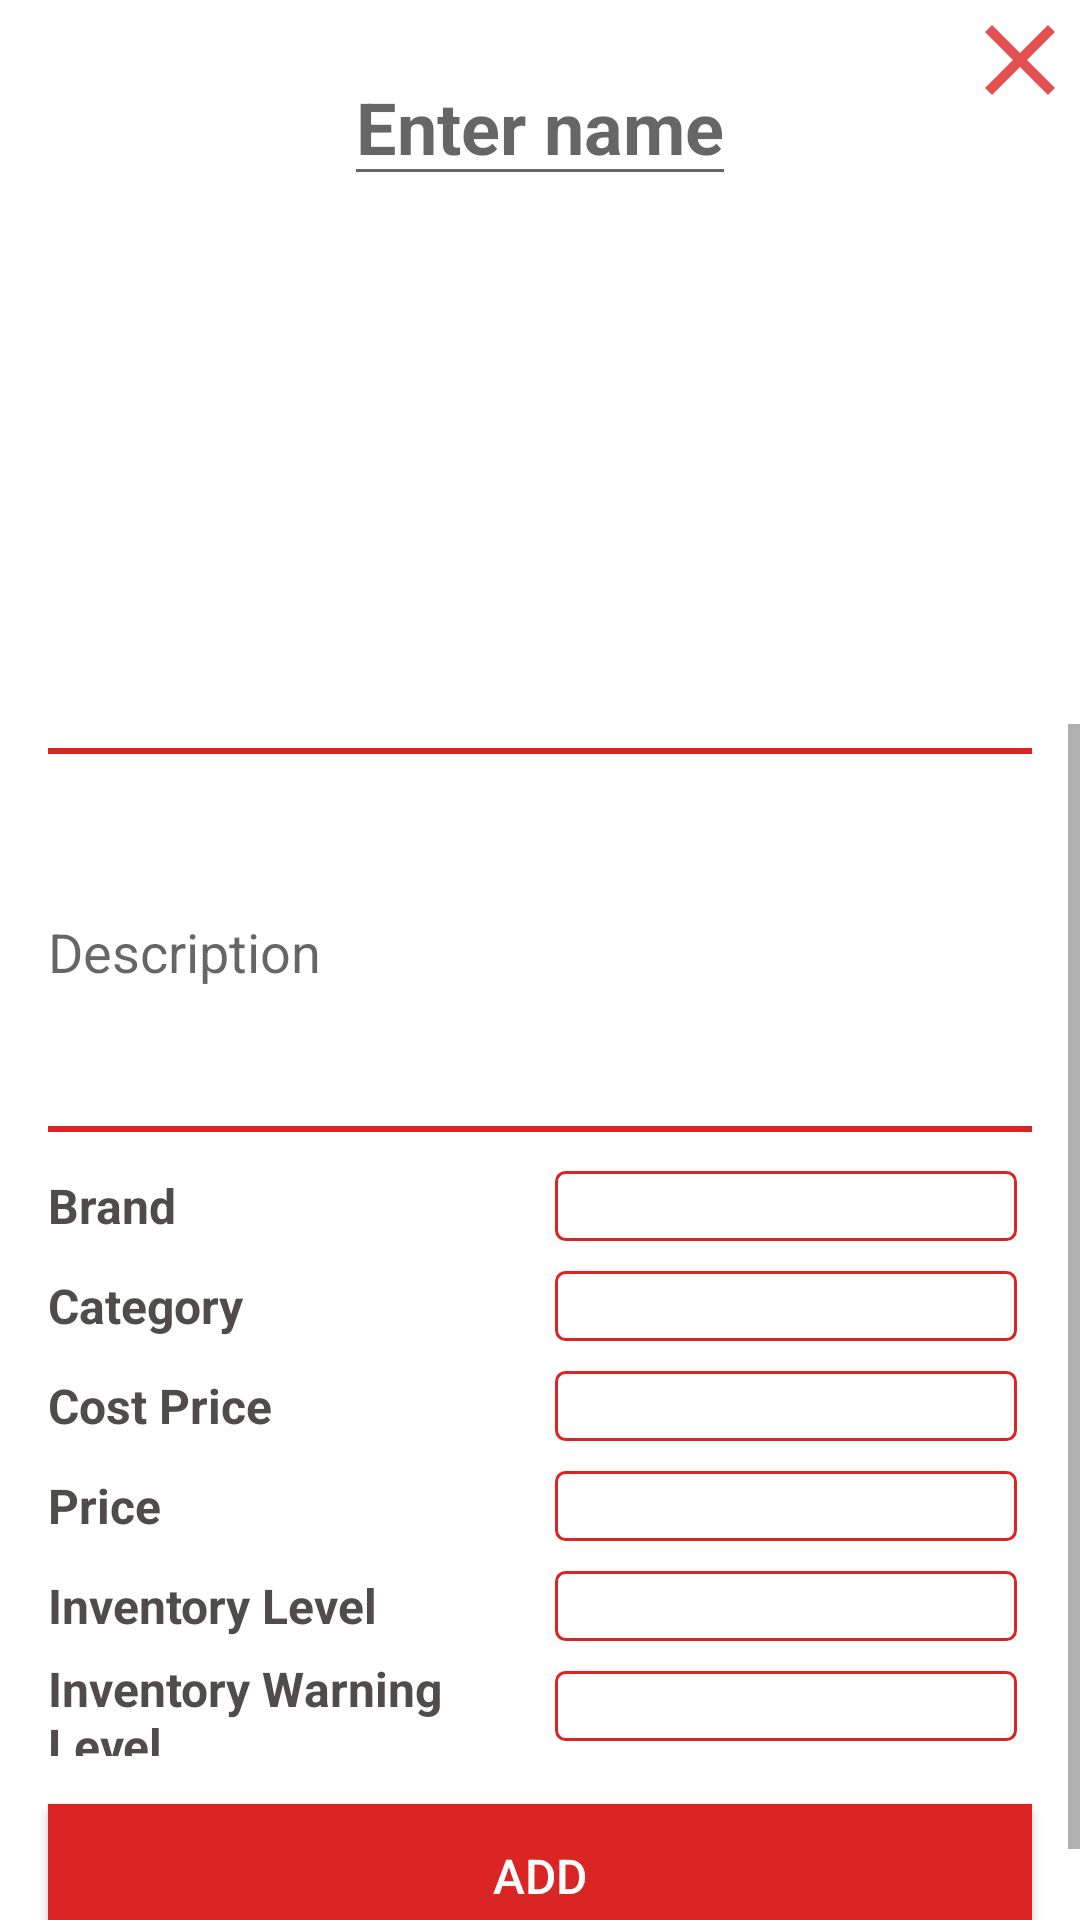

Screen size 1080px×1920px. Icon name, then its center in pixels as (x=x, y=y):
close: (x=1020, y=60)
